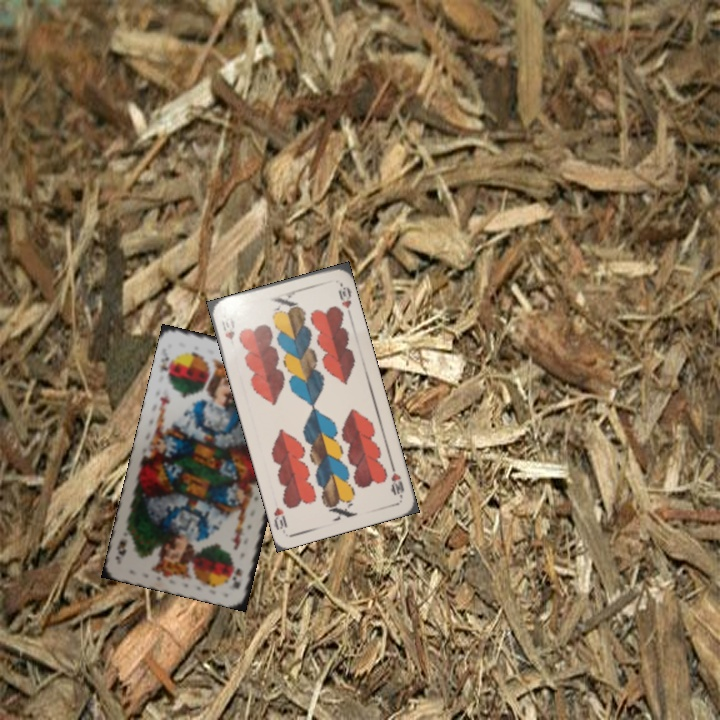H10: (387, 460, 407, 500), (218, 313, 237, 342)
SK: (226, 564, 244, 591), (156, 347, 171, 375)
